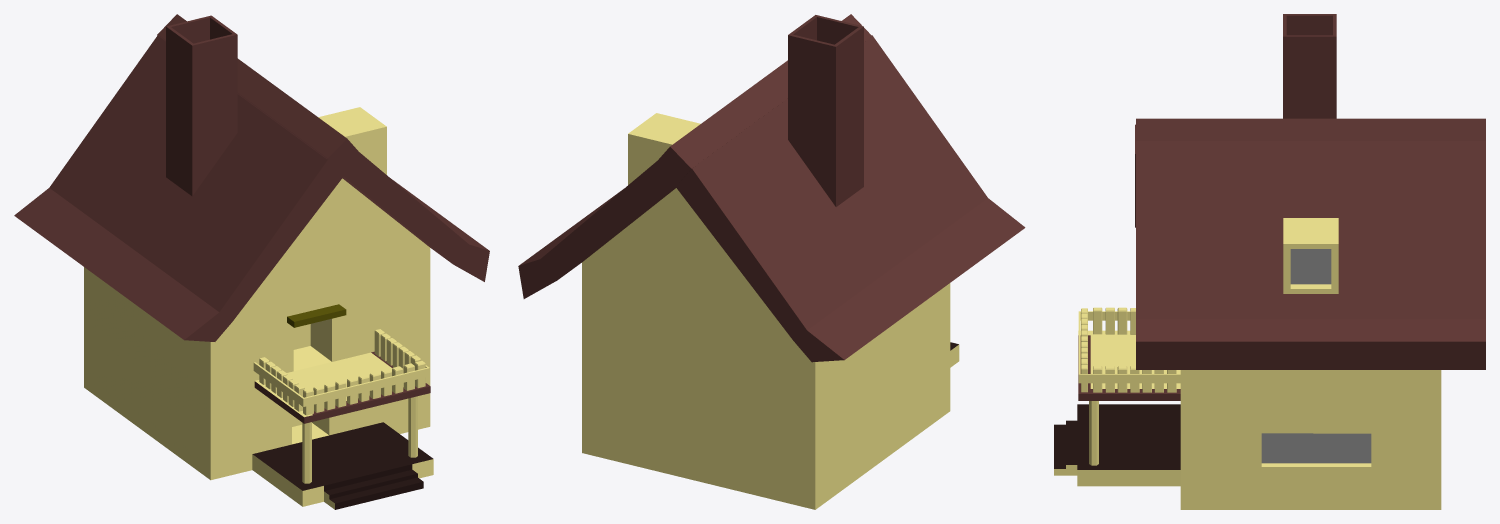
The model's file is Casa01.fbx.
3 renders of one model, left to right at view 1: azimuth 30°, elevation 25°; view 2: azimuth 150°, elevation 25°; view 3: azimuth 270°, elevation 25°, orthographic. The views are drawn at different scales.
Visible parts, largest first — view 1: Cube.001; view 2: Cube.001; view 3: Cube.001.
Boxes of the visible parts, x1=… form: Cube.001: x1=14, y1=14, x2=489, y2=509; Cube.001: x1=518, y1=14, x2=1025, y2=509; Cube.001: x1=1054, y1=14, x2=1485, y2=509.
Size of the model in its own units: 1128 by 1374 by 1339.
